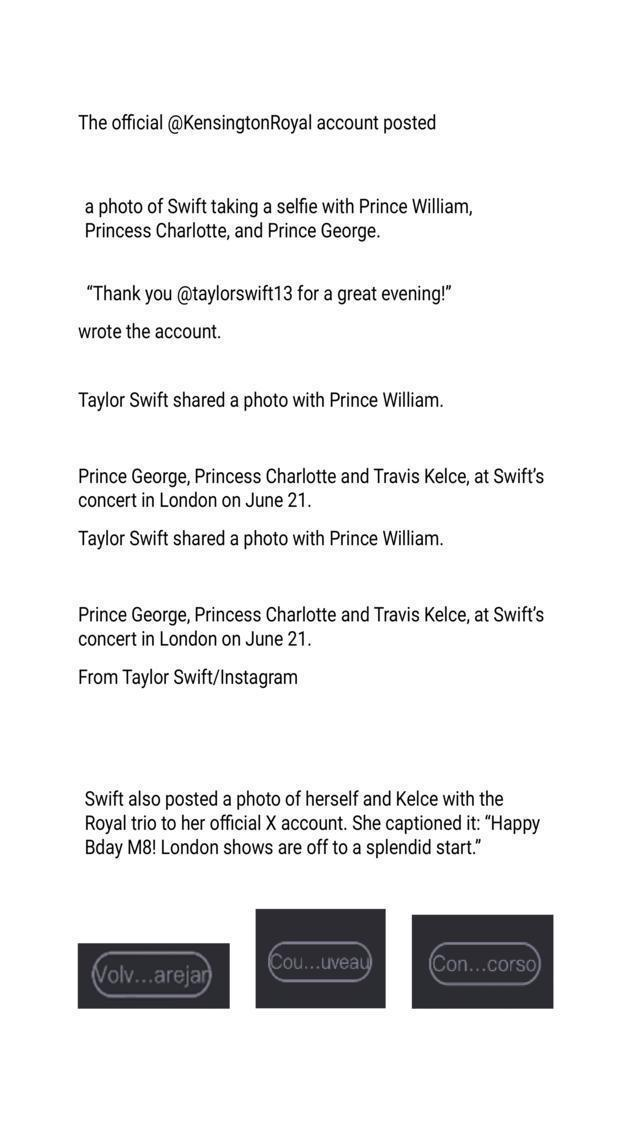Text: (72, 602, 557, 626), (82, 785, 520, 810), (83, 280, 460, 308), (72, 107, 448, 135), (72, 387, 455, 414), (80, 813, 548, 835), (72, 464, 554, 485), (78, 194, 481, 218), (72, 526, 457, 551), (82, 836, 487, 858), (79, 220, 390, 244), (74, 662, 307, 693), (71, 488, 322, 512), (72, 628, 316, 652), (71, 316, 223, 348)
TextButton: (91, 952, 212, 1000), (426, 940, 540, 989), (270, 939, 372, 984)
WS1: (58, 956, 110, 989), (193, 964, 238, 992), (251, 946, 282, 978), (354, 948, 384, 976)
